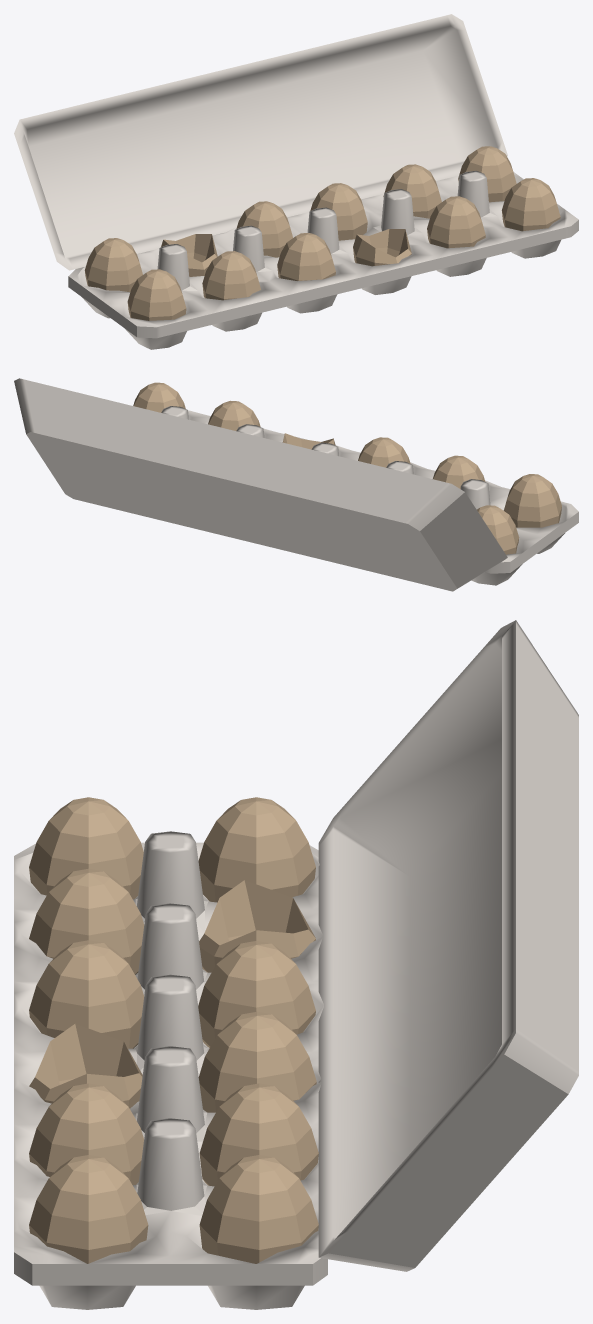
File: EggCarton.fbx
3 views of the same model, one above another, from view 1: azimuth 30°, elevation 25°; view 2: azimuth 150°, elevation 25°; view 3: azimuth 270°, elevation 25° (orthographic). The views are drawn at different scales.
Parts seen in each view (by area): view 1: cartonTop, cartonBottom, egg7, egg2, egg, egg6, egg4, egg3, egg5, egg9, egg1, brokenEgg1 (+2 smaller); view 2: cartonTop, cartonBottom, egg2, egg, egg3, egg4, egg7, egg6, brokenEgg1; view 3: cartonTop, cartonBottom, egg9, egg7, egg, egg4, egg8, egg1, egg2, egg5, egg6, egg3 (+2 smaller).
Boxes of the visible parts, x1,y1,x2,y2 form: cartonTop: (14,14,507,270); cartonBottom: (68,170,578,349); egg7: (501,178,560,231); egg2: (127,269,186,320); egg: (84,238,142,292); egg6: (427,196,485,248); egg4: (277,233,335,280); egg3: (202,251,260,300); egg5: (310,183,367,240); egg9: (458,146,516,202); egg1: (236,201,292,257); brokenEgg1: (353,229,411,266); cartonTop: (14,378,507,591); cartonBottom: (161,406,578,585); egg2: (503,474,561,527); egg: (477,505,519,554); egg3: (433,455,485,488); egg4: (358,437,410,467); egg7: (133,382,185,412); egg6: (208,400,260,430); brokenEgg1: (282,433,335,449); cartonTop: (318,620,578,1271); cartonBottom: (14,831,327,1309); egg9: (199,1155,318,1263); egg7: (29,1155,148,1263); egg: (198,797,315,902); egg4: (29,940,144,1048); egg8: (199,1083,318,1186); egg1: (198,941,315,1047); egg2: (29,797,143,899); egg5: (198,1011,316,1112); egg6: (29,1083,143,1185); egg3: (29,868,144,974).
Size of the model in its own units: 123 by 39.32 by 68.2.
